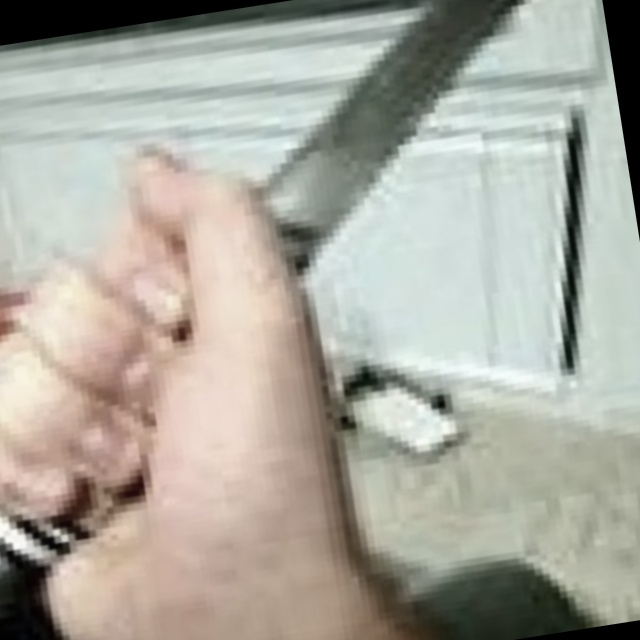Sharp-Object: (0, 0, 631, 626)
